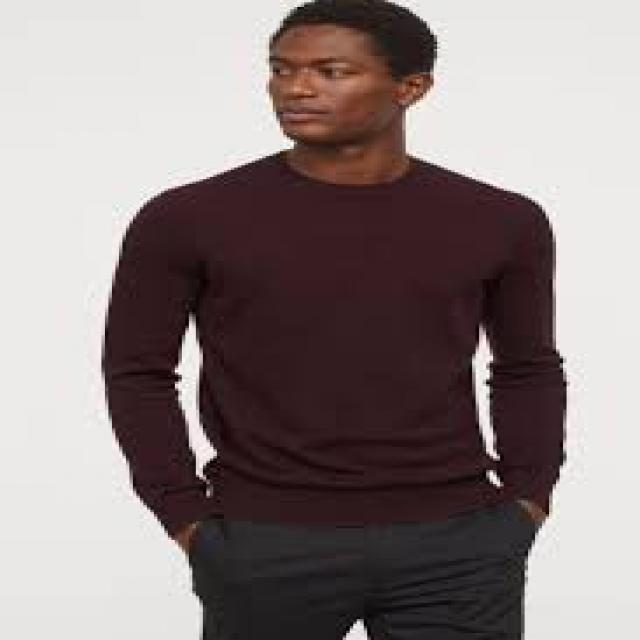plain: (92, 152, 576, 522)
